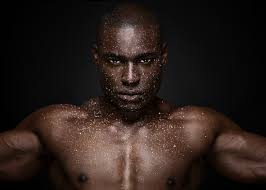black_male: (89, 26, 173, 112)
